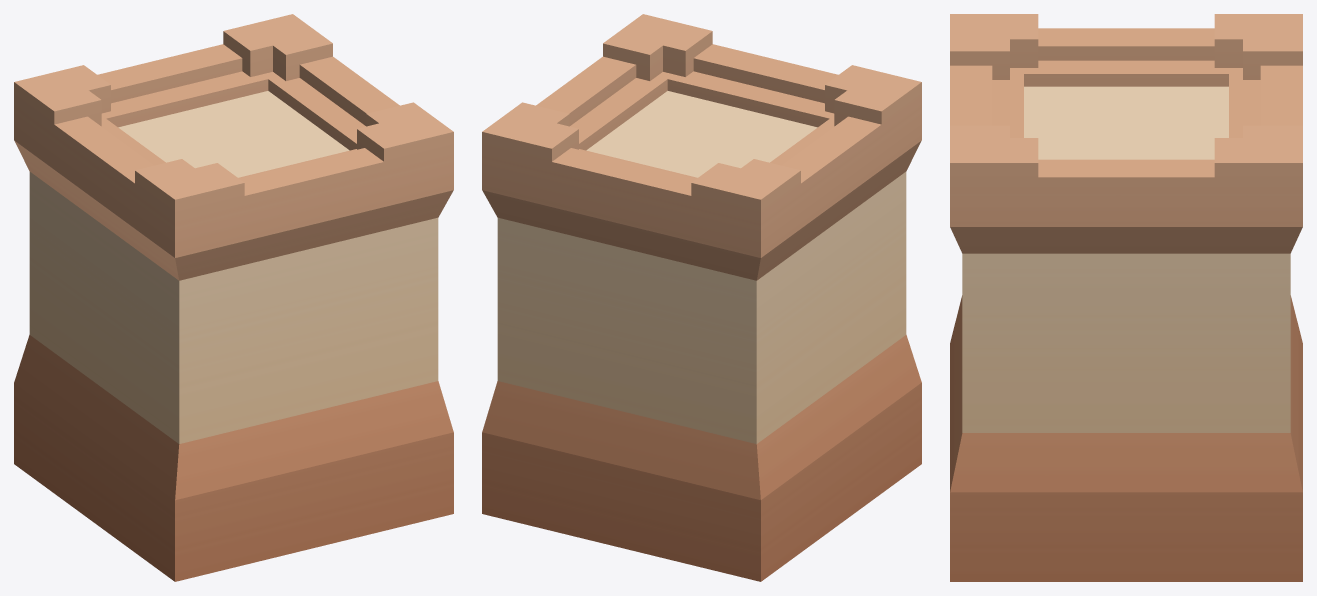
File: tower-square.obj
3 views of the same model, side by side, from view 1: azimuth 30°, elevation 25°; view 2: azimuth 150°, elevation 25°; view 3: azimuth 270°, elevation 25° (orthographic). The views are drawn at different scales.
Visible parts, largest first — view 1: tower-square; view 2: tower-square; view 3: tower-square.
Boxes of the visible parts, x1=… form: tower-square: x1=14, y1=14, x2=453, y2=581; tower-square: x1=482, y1=14, x2=921, y2=581; tower-square: x1=950, y1=14, x2=1302, y2=581.
Bounding box in the file's own units: 1 × 1.31 × 1.
Materials: 1 (1 with a texture image).
